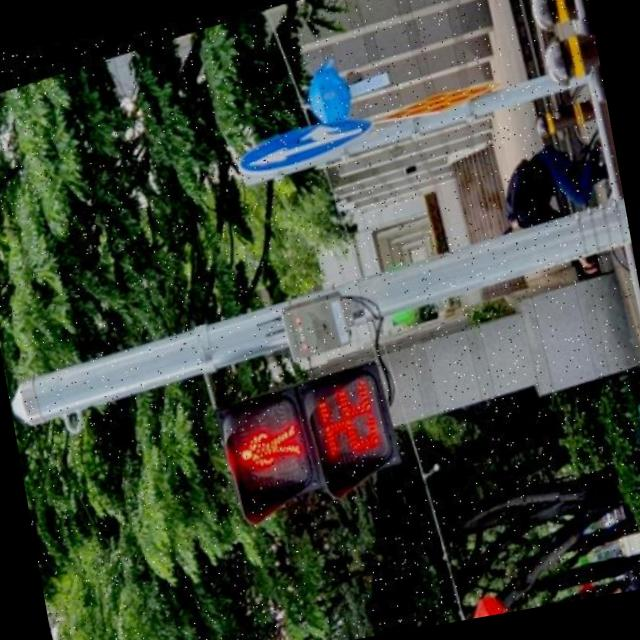red_light: (208, 362, 396, 508)
